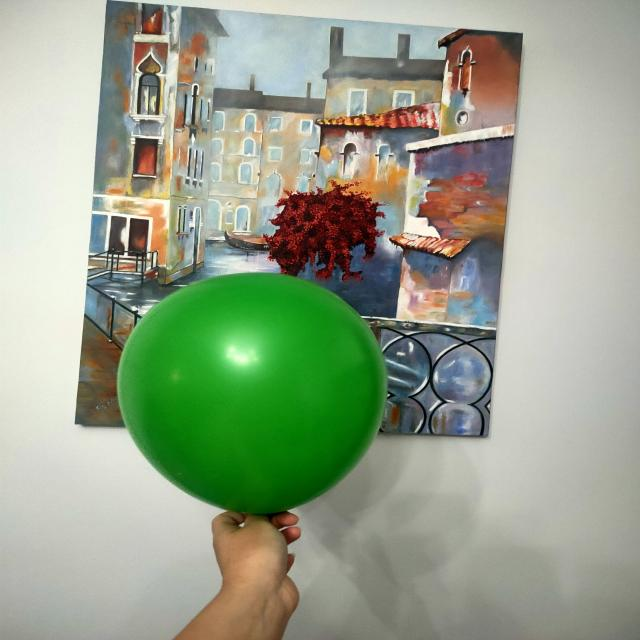green: (118, 275, 390, 519)
